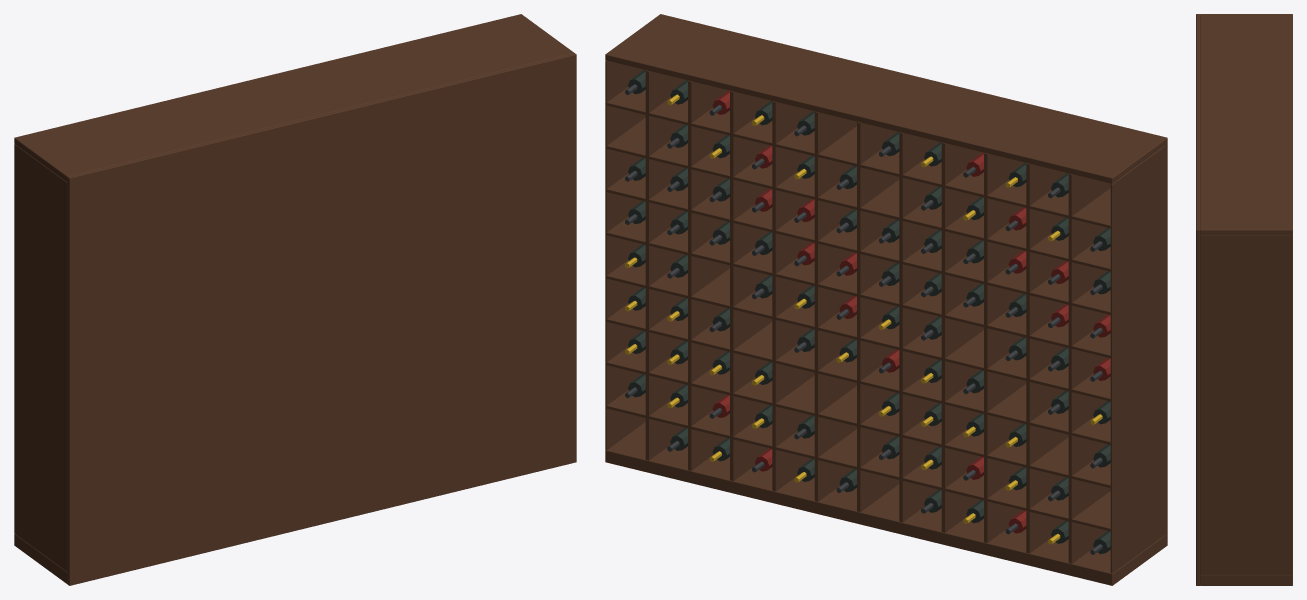
The model's file is prop_wine_rack_w260.glb.
3 renders of one model, left to right at view 1: azimuth 30°, elevation 25°; view 2: azimuth 150°, elevation 25°; view 3: azimuth 270°, elevation 25°, orthographic. The views are drawn at different scales.
Parts seen in each view (by area): view 1: Rack; view 2: Rack; view 3: Rack.
Part boxes in pixels (bbox=[...]): Rack: bbox=[14, 14, 576, 585]; Rack: bbox=[605, 14, 1167, 585]; Rack: bbox=[1196, 14, 1292, 585].
Size of what is drawn, in the model's own units: 2.59 by 1.99 by 0.49.
